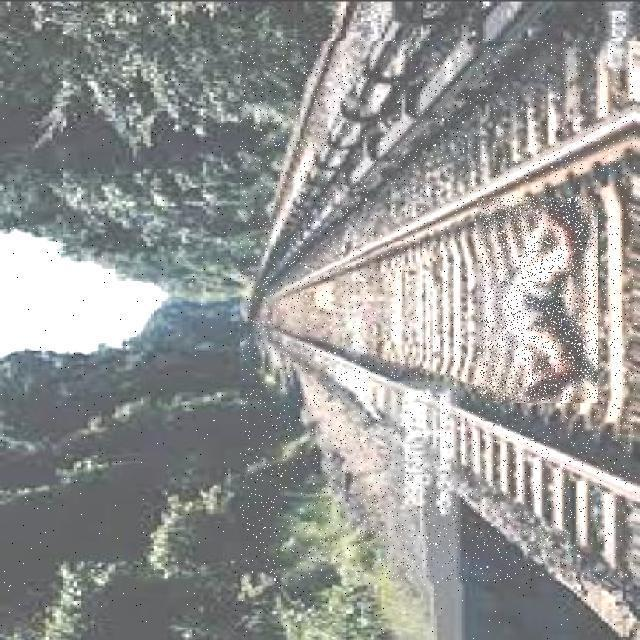danger: (480, 197, 598, 401)
rail: (241, 39, 636, 581)
